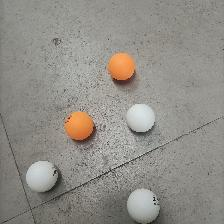WhiteBall: (126, 188, 160, 222), (25, 160, 58, 191), (125, 102, 155, 133)
YellowBall: (64, 111, 94, 140), (106, 52, 135, 81)
